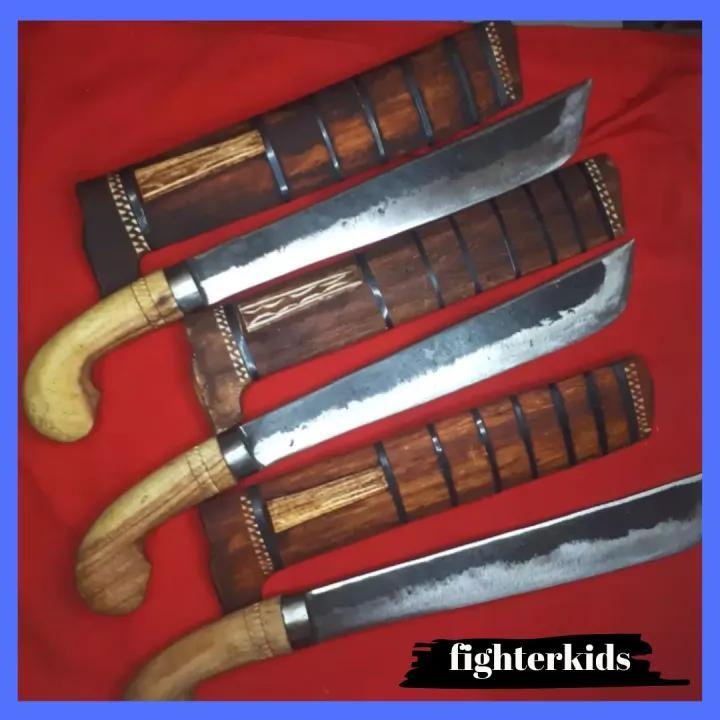facao: (67, 222, 652, 638), (17, 64, 611, 459), (120, 463, 704, 703)
